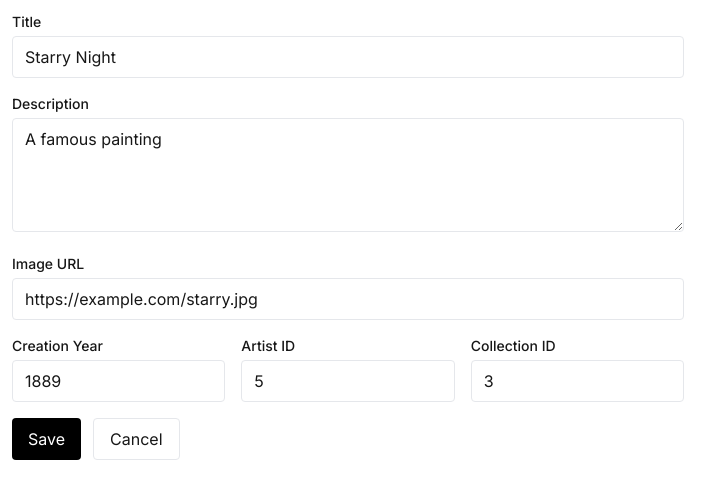
ArtworkEditForm › clears the field error when the user modifies the field
The image size is (701, 501).
Replace the text in the field labelled "Image URL" with "not-a-url" at (348, 299), box [12,278,684,320]
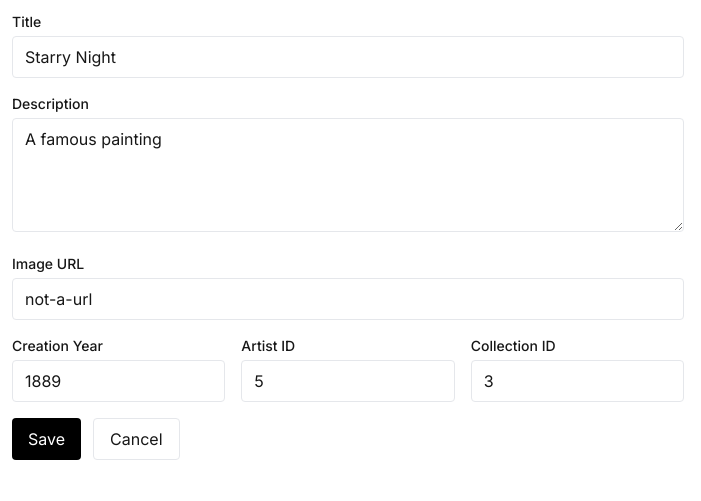
Click the button "Save" at (46, 439), box [12,418,81,460]
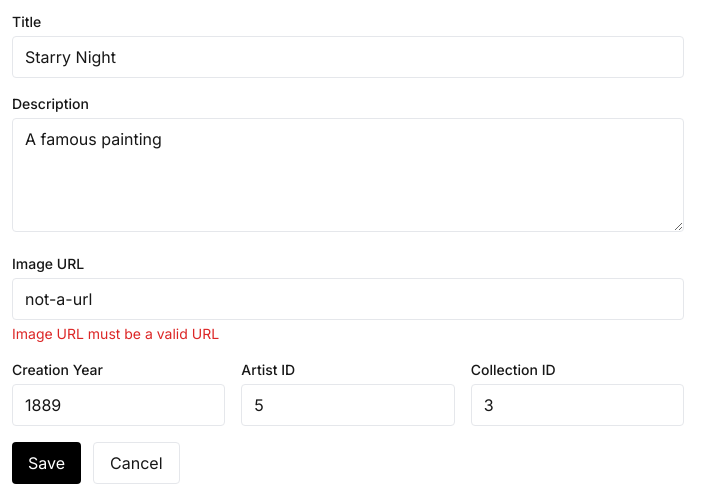
Now the text "Image URL must be a valid URL" is shown, box [12,325,219,342]
Replace the text in the field labelled "Image URL" with "https://example.com/fixed.jpg" at (348, 299), box [12,278,684,320]
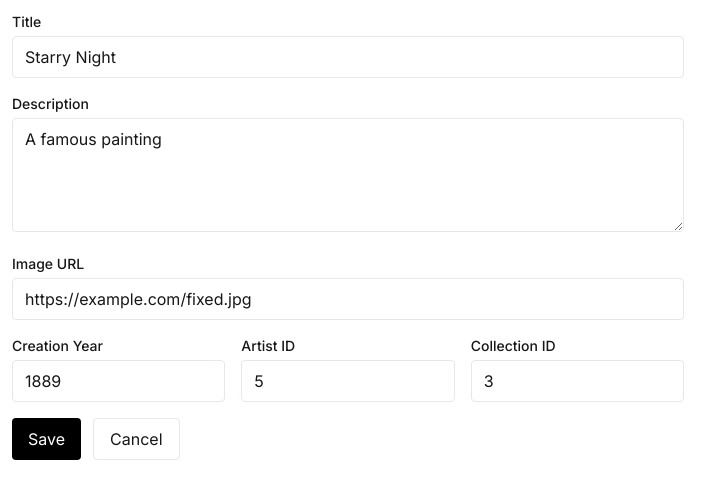
Now the text "Image URL must be a valid URL" is gone
